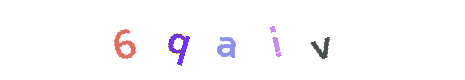6: (87, 0, 167, 80)
A: (193, 0, 273, 80)
I: (207, 0, 287, 80)
Q: (139, 0, 219, 80)
V: (259, 0, 339, 80)
